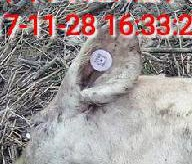text: (80, 42, 122, 78)
